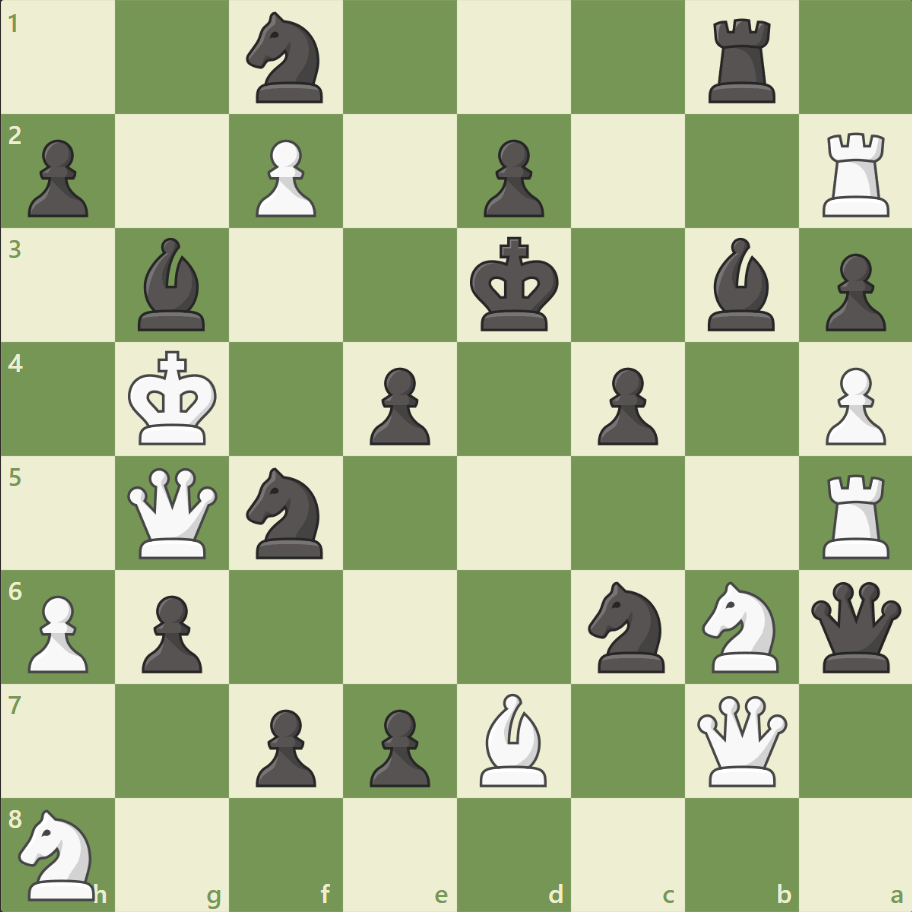B: (471, 687, 555, 790)
K: (124, 344, 224, 452)
N: (11, 802, 108, 904), (692, 575, 789, 677)
P: (20, 586, 95, 677), (247, 132, 322, 223), (815, 359, 889, 450)
Q: (691, 690, 790, 789), (124, 463, 223, 562)
R: (814, 466, 897, 563), (814, 125, 897, 222)
b: (698, 233, 782, 336), (131, 233, 215, 336)
k: (465, 231, 565, 339)
n: (238, 461, 335, 564), (238, 7, 335, 110), (579, 575, 676, 677)
p: (247, 700, 322, 791), (133, 586, 208, 677), (474, 132, 549, 223), (20, 132, 95, 223), (361, 700, 435, 791), (588, 359, 662, 450), (361, 359, 435, 450), (815, 246, 889, 337)
q: (805, 576, 904, 676)
r: (700, 12, 783, 109)
